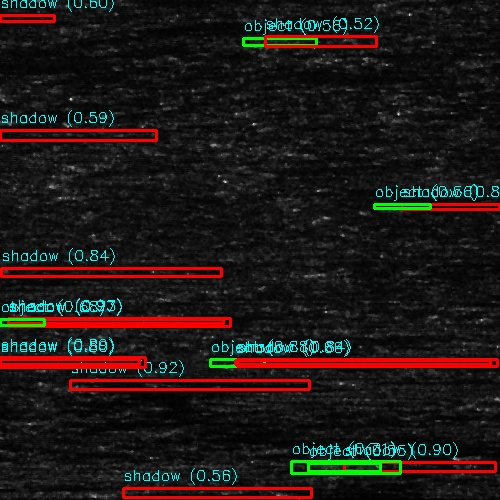rock: (287, 461, 402, 474), (189, 357, 294, 366), (303, 375, 386, 384), (0, 317, 51, 328), (42, 382, 83, 391), (238, 40, 311, 45), (80, 490, 143, 495), (454, 451, 500, 456), (42, 192, 83, 197), (486, 393, 500, 398)
shadow: (20, 317, 243, 328), (242, 357, 500, 366), (345, 461, 500, 474), (63, 382, 285, 391), (0, 353, 111, 368), (345, 375, 500, 384), (0, 480, 115, 489), (0, 270, 179, 275), (0, 131, 99, 140), (63, 192, 215, 197), (112, 490, 259, 495), (0, 403, 38, 414), (275, 40, 358, 45)
